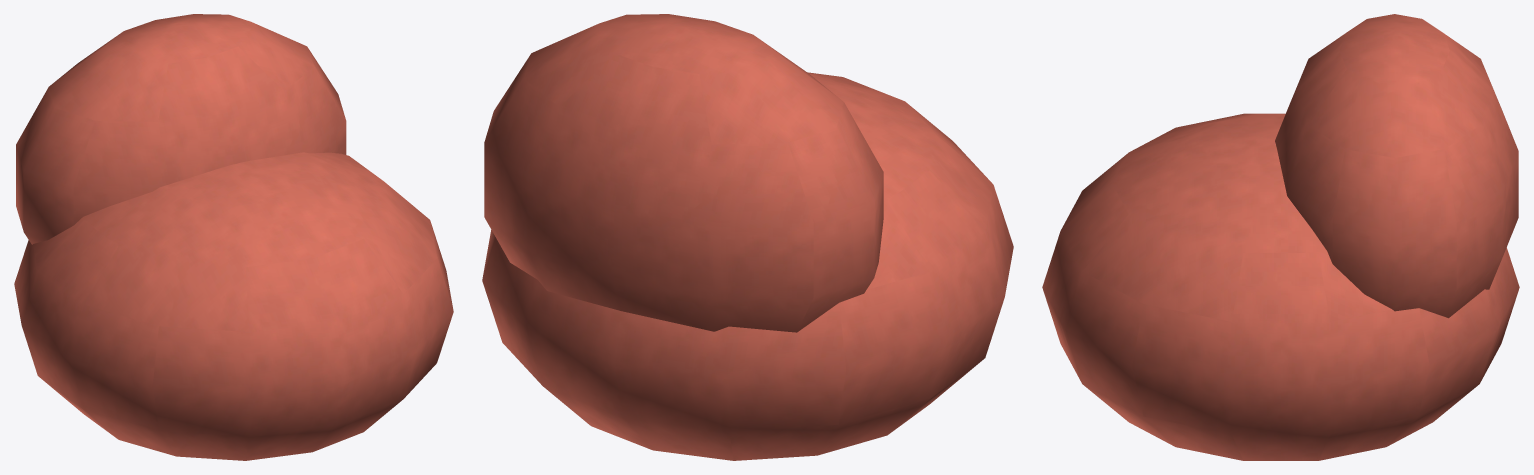
3 views of the same model, side by side, from view 1: azimuth 30°, elevation 25°; view 2: azimuth 150°, elevation 25°; view 3: azimuth 270°, elevation 25° (orthographic). The views are drawn at different scales.
Parts seen in each view (by area): view 1: Decor_bean_bag; view 2: Decor_bean_bag; view 3: Decor_bean_bag.
Part boxes in pixels (<box>): Decor_bean_bag: <box>14,14,453,460</box>; Decor_bean_bag: <box>482,14,1013,460</box>; Decor_bean_bag: <box>1042,14,1519,460</box>.
Size of the model in its own units: 0.8189 by 0.7736 by 0.84.
Materials: 1 (1 with a texture image).
